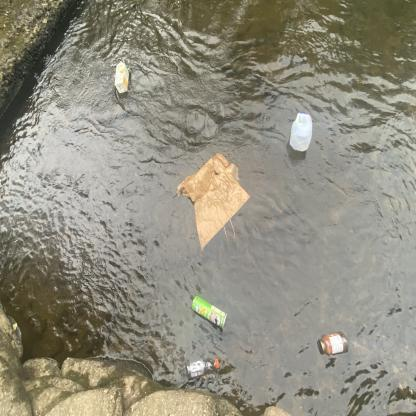trash: (172, 147, 252, 254), (186, 294, 232, 332), (286, 106, 317, 156), (314, 329, 350, 361), (182, 356, 222, 384), (111, 61, 133, 98)
